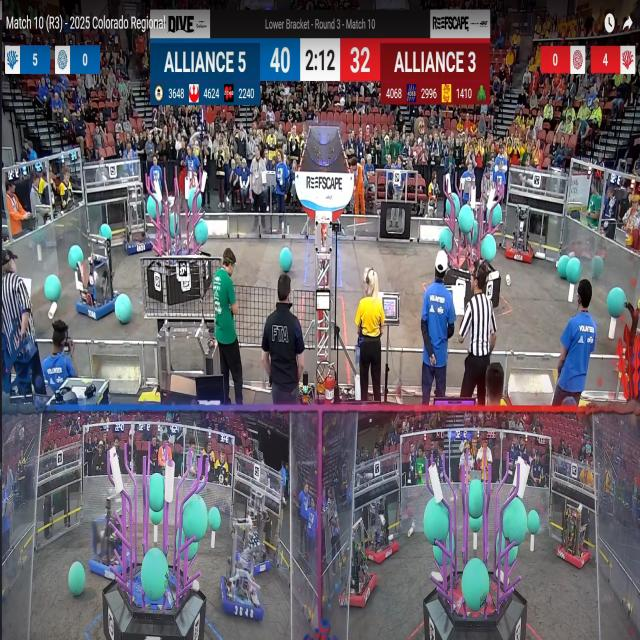Robot-YfA7: (90, 495, 136, 582), (223, 518, 263, 618), (76, 228, 115, 322), (337, 516, 373, 610), (236, 487, 274, 576), (556, 494, 592, 568), (365, 490, 396, 562), (124, 178, 152, 256), (506, 200, 536, 265)
